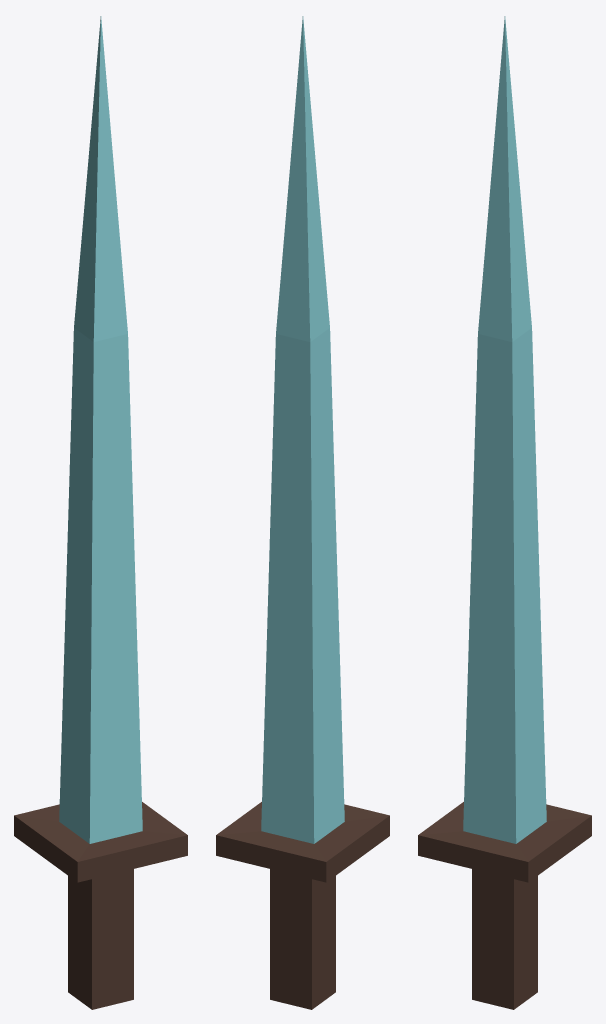
The model's file is RoboSword.fbx.
The picture shows the model from 3 angles, left to right: view 1: azimuth 30°, elevation 25°; view 2: azimuth 150°, elevation 25°; view 3: azimuth 330°, elevation 25°; orthographic projection.
Visible parts, largest first — view 1: Cube; view 2: Cube; view 3: Cube.
Part boxes in pixels (box(x1,y1,x2,y2)): Cube: box(14, 16, 187, 1009); Cube: box(216, 16, 389, 1009); Cube: box(418, 16, 591, 1009).
Bounding box in the file's own units: 48.92 × 416 × 48.92.
